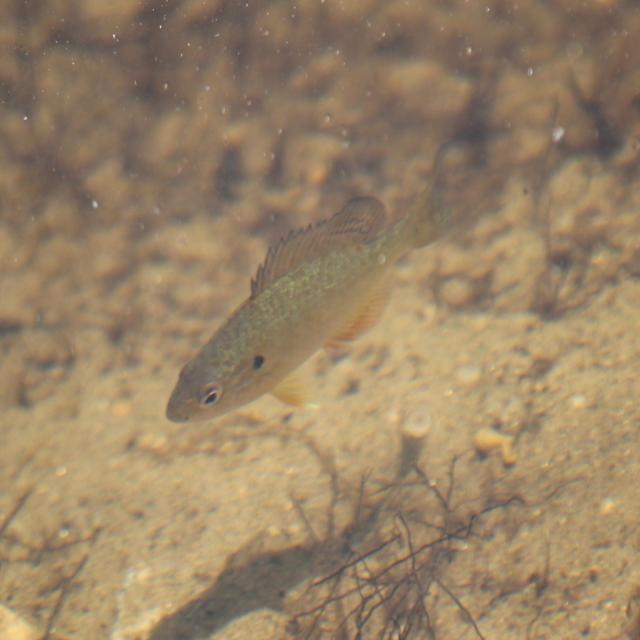Gunes Levregi: (165, 142, 449, 443)
